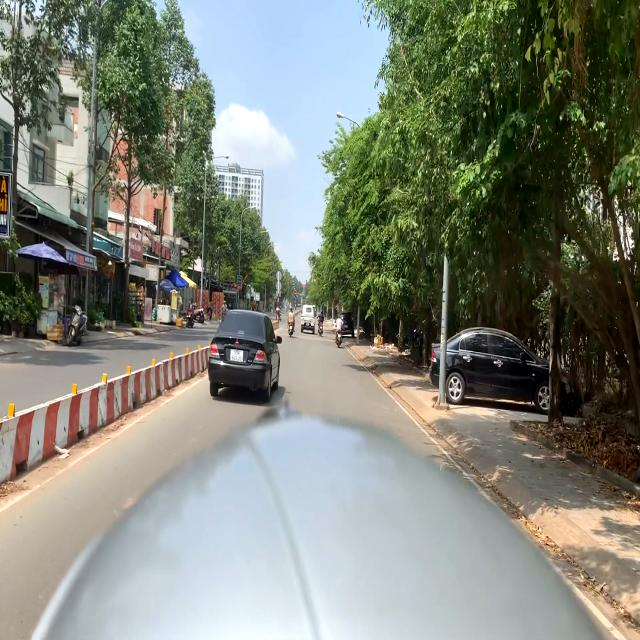P.102: (293, 291, 297, 296)
R.302a: (294, 296, 296, 300)
